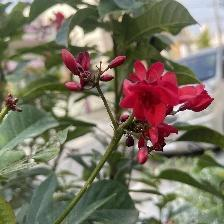jatropha: (120, 82, 178, 134)
